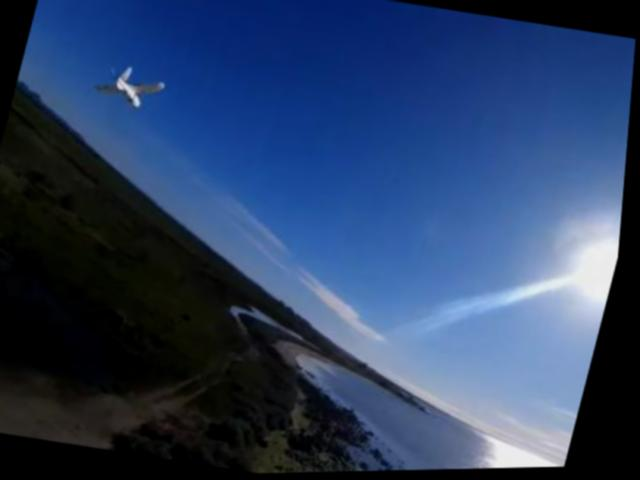uav: (86, 62, 171, 117)
